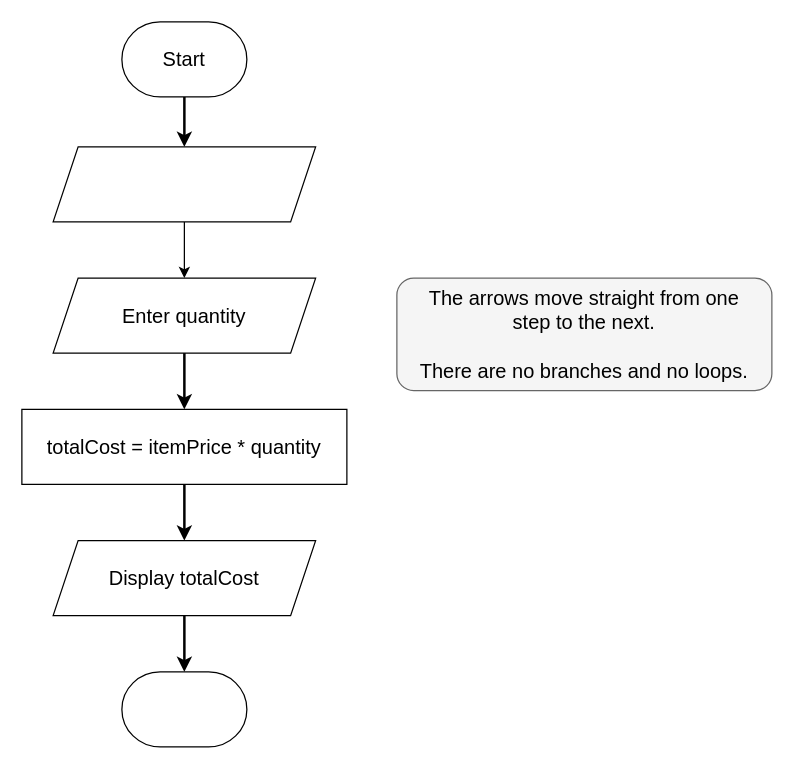
This 794x769 diagram has some shape labels left out. Each missing label, with the box of its shape:
End: (121, 671, 247, 747)
Enter item price: (52, 146, 316, 222)
